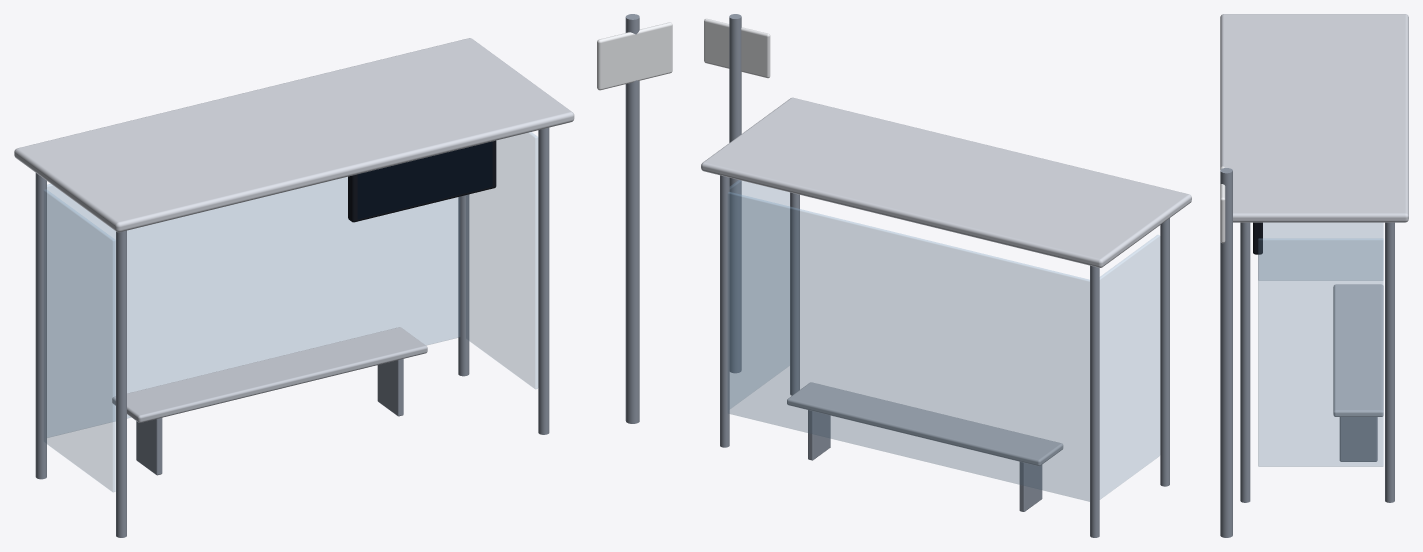
The model's file is busStop.glb.
3 views of the same model, side by side, from view 1: azimuth 30°, elevation 25°; view 2: azimuth 150°, elevation 25°; view 3: azimuth 270°, elevation 25° (orthographic). The views are drawn at different scales.
Visible parts, largest first — view 1: back, roof, busStop, glassL, glassR, bench, screen, sign; view 2: back, roof, busStop, glassL, glassR, bench; view 3: roof, glassR, busStop, glassL, bench.
Part boxes in pixels (left/top/right/bottom): back: left=47, top=177, right=459, bottom=437; roof: left=14, top=38, right=574, bottom=232; busStop: left=35, top=14, right=672, bottom=537; glassL: left=44, top=189, right=115, bottom=491; glassR: left=466, top=132, right=537, bottom=388; bench: left=112, top=327, right=427, bottom=422; screen: left=357, top=141, right=492, bottom=219; sign: left=601, top=26, right=671, bottom=88; back: left=728, top=192, right=1089, bottom=501; roof: left=701, top=97, right=1191, bottom=267; busStop: left=704, top=14, right=1169, bottom=537; glassL: left=1100, top=235, right=1159, bottom=499; glassR: left=730, top=180, right=789, bottom=408; bench: left=787, top=382, right=1063, bottom=466; roof: left=1220, top=14, right=1408, bottom=222; glassR: left=1258, top=238, right=1383, bottom=466; busStop: left=1220, top=166, right=1394, bottom=537; glassL: left=1258, top=223, right=1383, bottom=280; bench: left=1333, top=284, right=1383, bottom=416.
Bounding box in the file's own units: 4.61 × 3.2 × 1.5.
